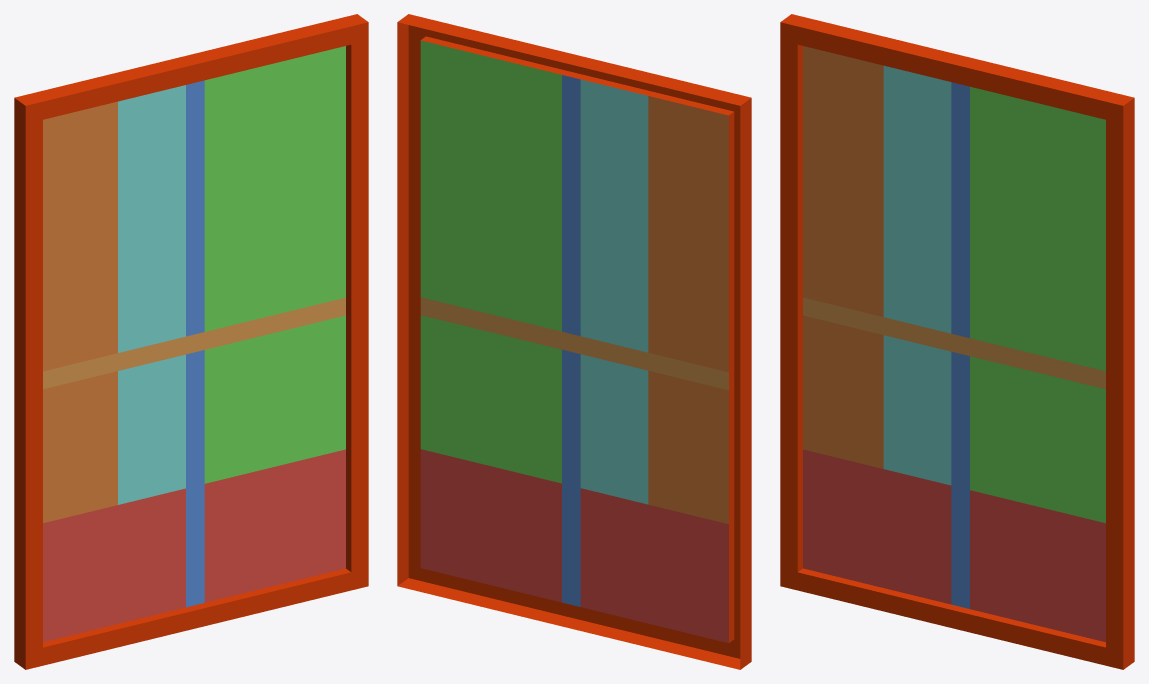
Rendered from Poster_1v.fbx.
3 views of the same model, side by side, from view 1: azimuth 30°, elevation 25°; view 2: azimuth 150°, elevation 25°; view 3: azimuth 330°, elevation 25° (orthographic).
Parts seen in each view (by area): view 1: Poster_1v; view 2: Poster_1v; view 3: Poster_1v.
Boxes of the visible parts, bbox=[...] form: Poster_1v: bbox=[14, 14, 368, 669]; Poster_1v: bbox=[397, 14, 751, 669]; Poster_1v: bbox=[780, 14, 1134, 669].
Bounding box in the file's own units: 0.0343 × 0.6039 × 0.9489.
